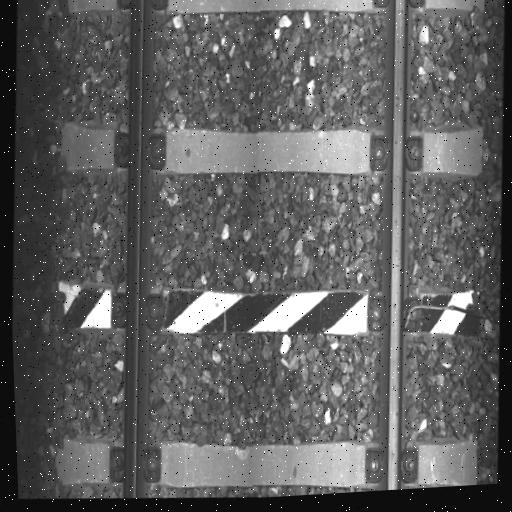sleeper: (52, 252, 484, 379), (58, 95, 486, 208), (45, 404, 479, 510), (65, 0, 486, 31)
